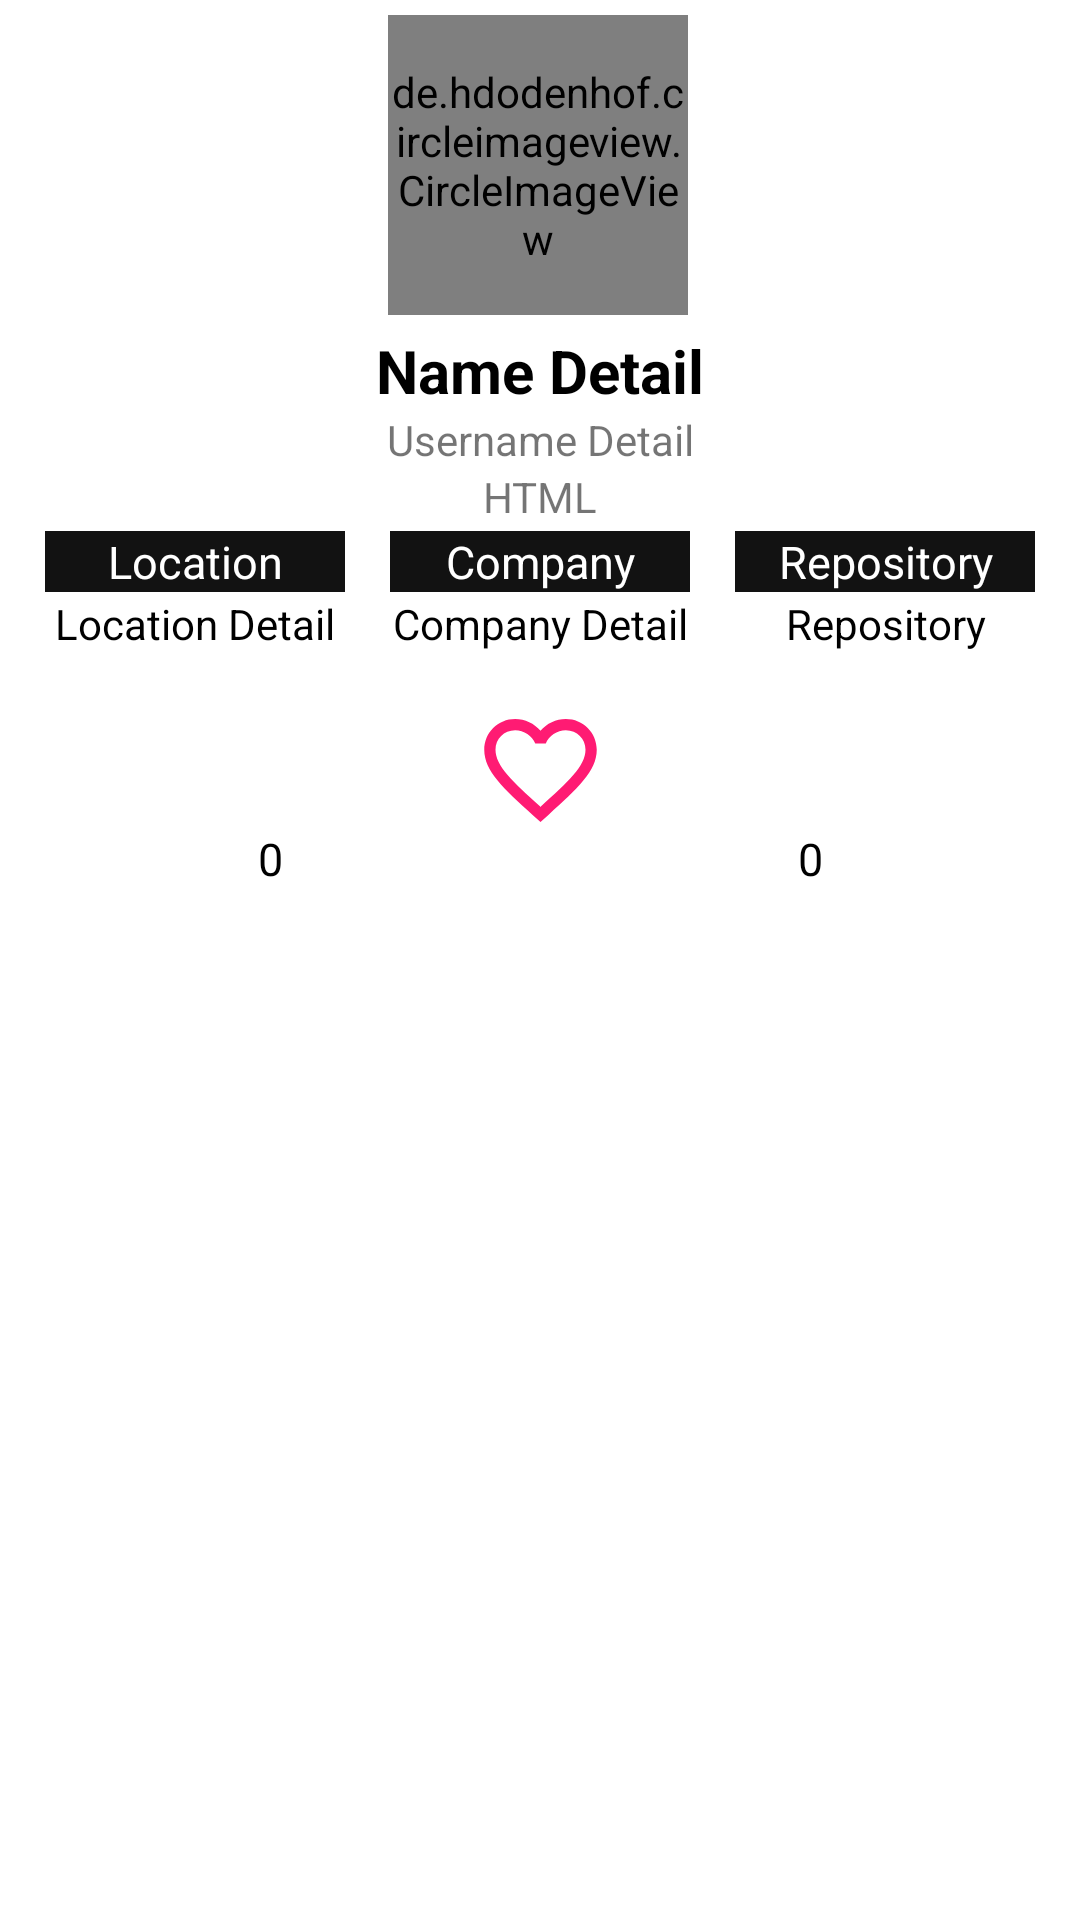

Where to tap for icons on this 1080w x 1920h app screen, as (x,y):
favorite: (540,770)
